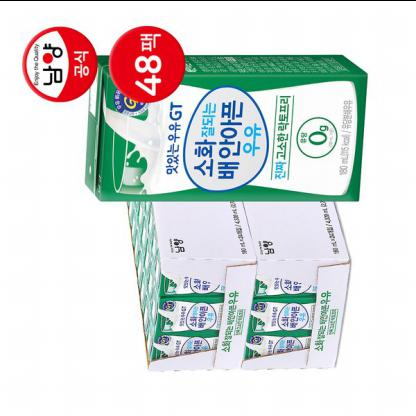tetra: (71, 33, 380, 219)
